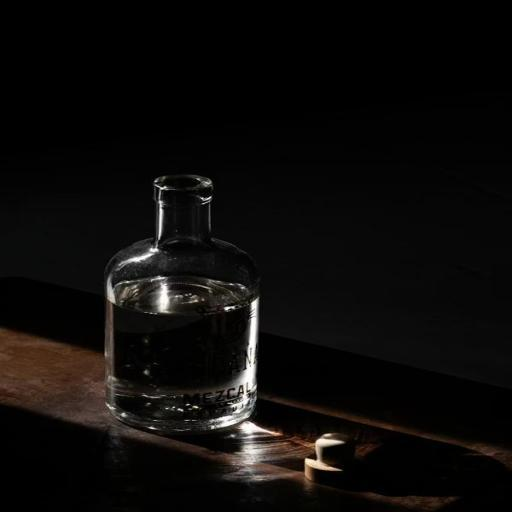bottle: (88, 163, 270, 438)
